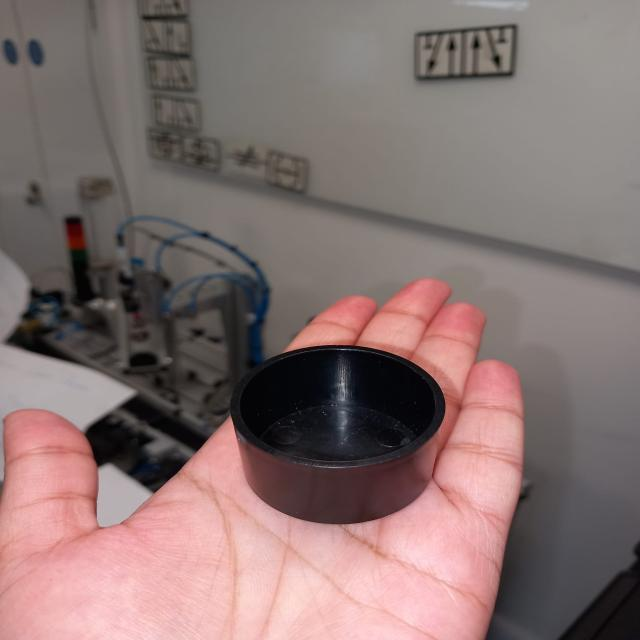NoLid: (224, 339, 458, 525)
